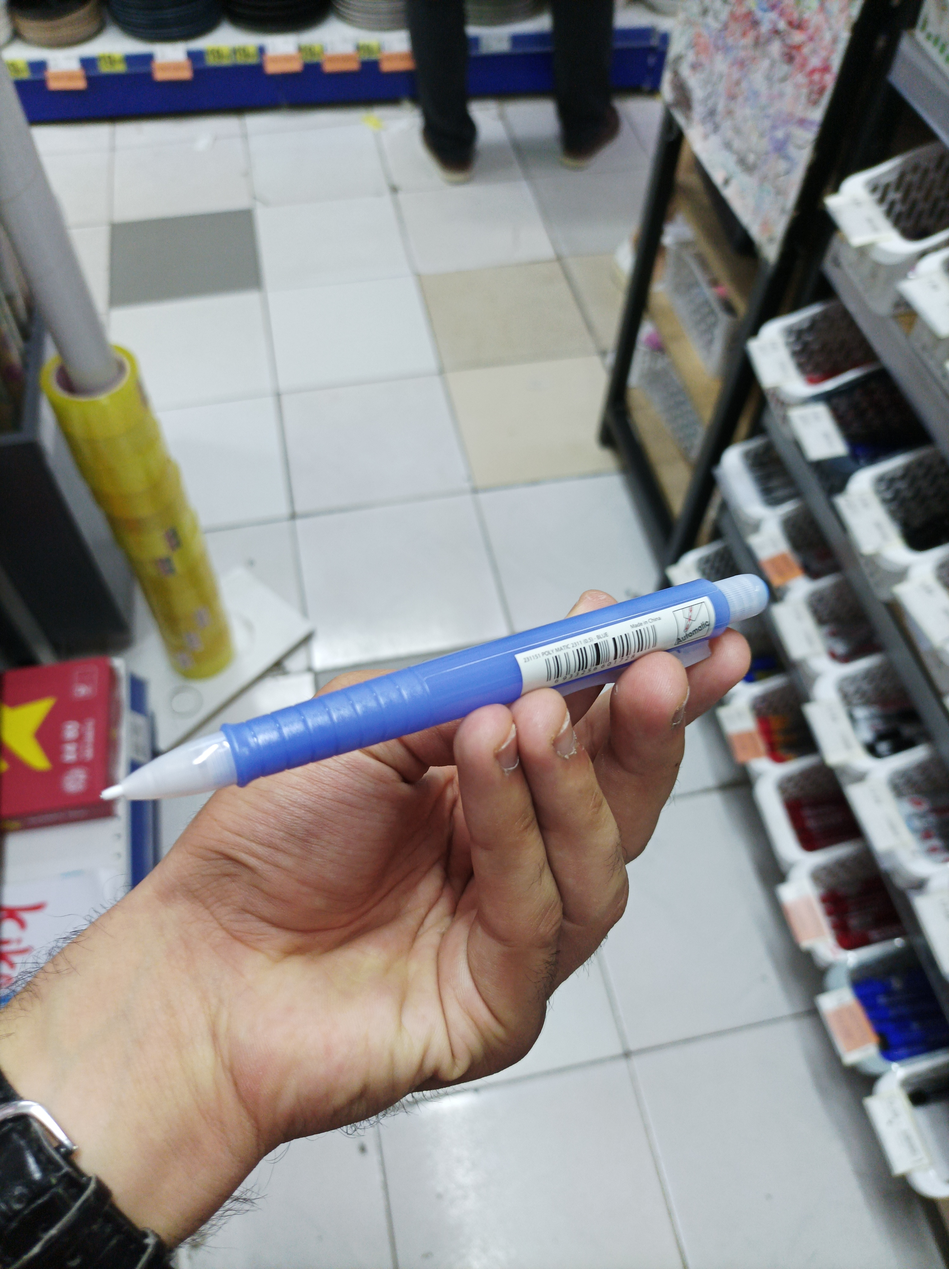plastic: (105, 565, 781, 812)
